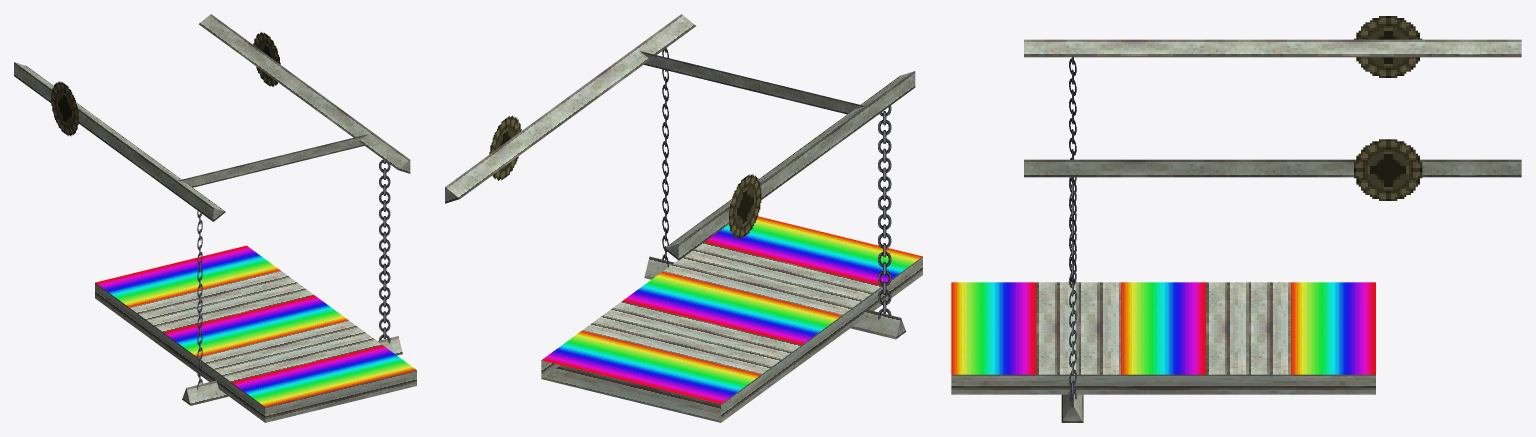
The model's file is town_course-bridge.glb.
The picture shows the model from 3 angles, left to right: view 1: azimuth 30°, elevation 25°; view 2: azimuth 150°, elevation 25°; view 3: azimuth 270°, elevation 25°; orthographic projection. The views are drawn at different scales.
Visible parts, largest first — view 1: bridge; view 2: bridge; view 3: bridge.
Boxes of the visible parts, x1,y1,x2,y2 form: bridge: (14, 14, 416, 422); bridge: (445, 14, 922, 422); bridge: (951, 16, 1521, 422).
Size of the model in its own units: 15.75 by 16.06 by 29.38.
3 materials, 3 textured.
